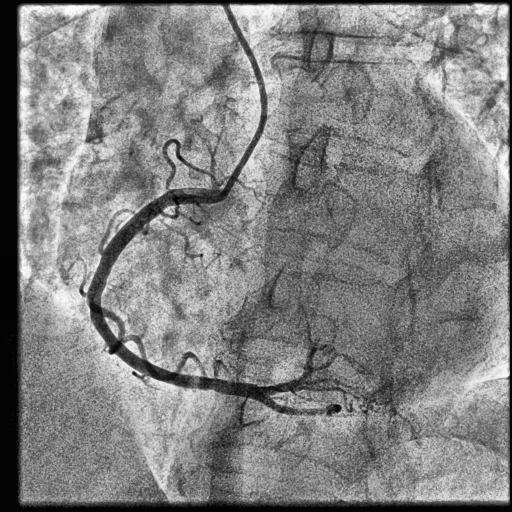pborca: (268, 343, 318, 396)
pda: (254, 396, 341, 416)
rca: (88, 188, 270, 397)
